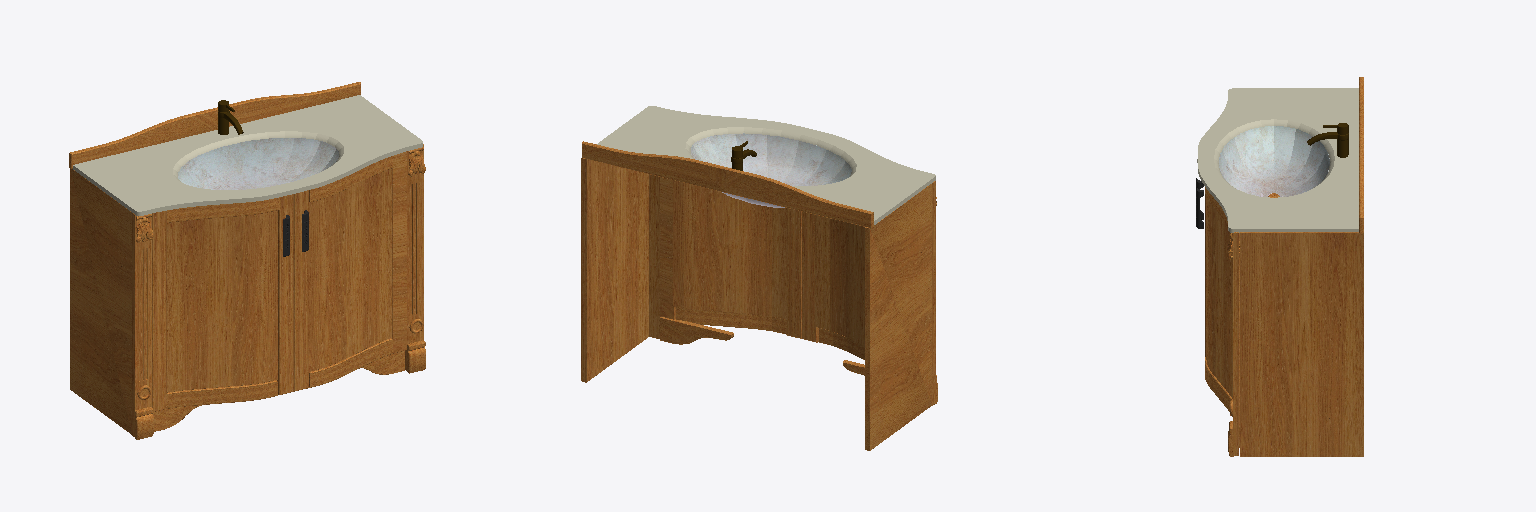
The picture shows the model from 3 angles: view 1: azimuth 30°, elevation 25°; view 2: azimuth 150°, elevation 25°; view 3: azimuth 270°, elevation 25°; orthographic projection.
Visible parts, largest first — view 1: Line21.Line24_Line21, Line12, Line21.Line24.001_Line21.001, Rectangle6, Line15, Rectangle9, Rectangle7.Rectangle8.001_Rectangle7.001, Rectangle0.Rectangle1.Rectangle2.Rectangle4.001_Rectangle0.001, Rectangle0.Rectangle1.Rectangle2.Rectangle4_Rectangle0, Rectangle0.Rectangle1.Rectangle2.Rectangle4.002_Rectangle0.002, Rectangle7.Rectangle8_Rectangle7, Rectangle0.Rectangle1.Rectangle2.Rectangle4.003_Rectangle0.003 (+9 smaller); view 2: Rectangle6, Line21.Line24.001_Line21.001, Rectangle5, Line12, Rectangle9, Line21.Line24_Line21, Line15, Rectangle0.Rectangle1.Rectangle2.Rectangle4.001_Rectangle0.001, Rectangle0.Rectangle1.Rectangle2.Rectangle4.003_Rectangle0.003, Rectangle7.Rectangle8_Rectangle7, Rectangle0.Rectangle1.Rectangle2.Rectangle4.002_Rectangle0.002, Line20.Line23.Line25.Line03_Line20 (+3 smaller); view 3: Rectangle5, Line12, Line15, Line21.Line24.001_Line21.001, Rectangle7.Rectangle8_Rectangle7, Rectangle9, Arch_056_0.
Boxes of the visible parts, <box> form: Line21.Line24_Line21: <box>167,210,277,392</box>; Line12: <box>73,95,422,215</box>; Line21.Line24.001_Line21.001: <box>309,169,391,371</box>; Rectangle6: <box>70,169,131,434</box>; Line15: <box>178,138,338,189</box>; Rectangle9: <box>69,82,360,168</box>; Rectangle7.Rectangle8.001_Rectangle7.001: <box>132,213,151,436</box>; Rectangle0.Rectangle1.Rectangle2.Rectangle4.001_Rectangle0.001: <box>392,151,406,353</box>; Rectangle0.Rectangle1.Rectangle2.Rectangle4_Rectangle0: <box>152,211,166,411</box>; Rectangle0.Rectangle1.Rectangle2.Rectangle4.002_Rectangle0.002: <box>277,194,293,394</box>; Rectangle7.Rectangle8_Rectangle7: <box>405,144,423,370</box>; Rectangle0.Rectangle1.Rectangle2.Rectangle4.003_Rectangle0.003: <box>294,190,308,391</box>; Rectangle6: <box>865,184,931,450</box>; Line21.Line24.001_Line21.001: <box>673,180,787,319</box>; Rectangle5: <box>581,158,648,382</box>; Line12: <box>597,106,935,224</box>; Rectangle9: <box>582,141,873,228</box>; Line21.Line24_Line21: <box>815,215,864,345</box>; Line15: <box>691,133,851,207</box>; Rectangle0.Rectangle1.Rectangle2.Rectangle4.001_Rectangle0.001: <box>660,177,675,319</box>; Rectangle0.Rectangle1.Rectangle2.Rectangle4.003_Rectangle0.003: <box>787,208,801,338</box>; Rectangle7.Rectangle8_Rectangle7: <box>649,174,659,338</box>; Rectangle0.Rectangle1.Rectangle2.Rectangle4.002_Rectangle0.002: <box>802,212,818,342</box>; Line20.Line23.Line25.Line03_Line20: <box>676,307,786,334</box>; Rectangle5: <box>1240,232,1363,456</box>; Line12: <box>1197,88,1358,232</box>; Line15: <box>1219,126,1329,196</box>; Line21.Line24.001_Line21.001: <box>1206,196,1232,398</box>; Rectangle7.Rectangle8_Rectangle7: <box>1233,232,1238,455</box>; Rectangle9: <box>1359,77,1363,233</box>; Arch_056_0: <box>1307,123,1348,157</box>.
Bounding box in the file's own units: 1.06 × 0.9076 × 0.528.
Materials: 8 (2 with a texture image).